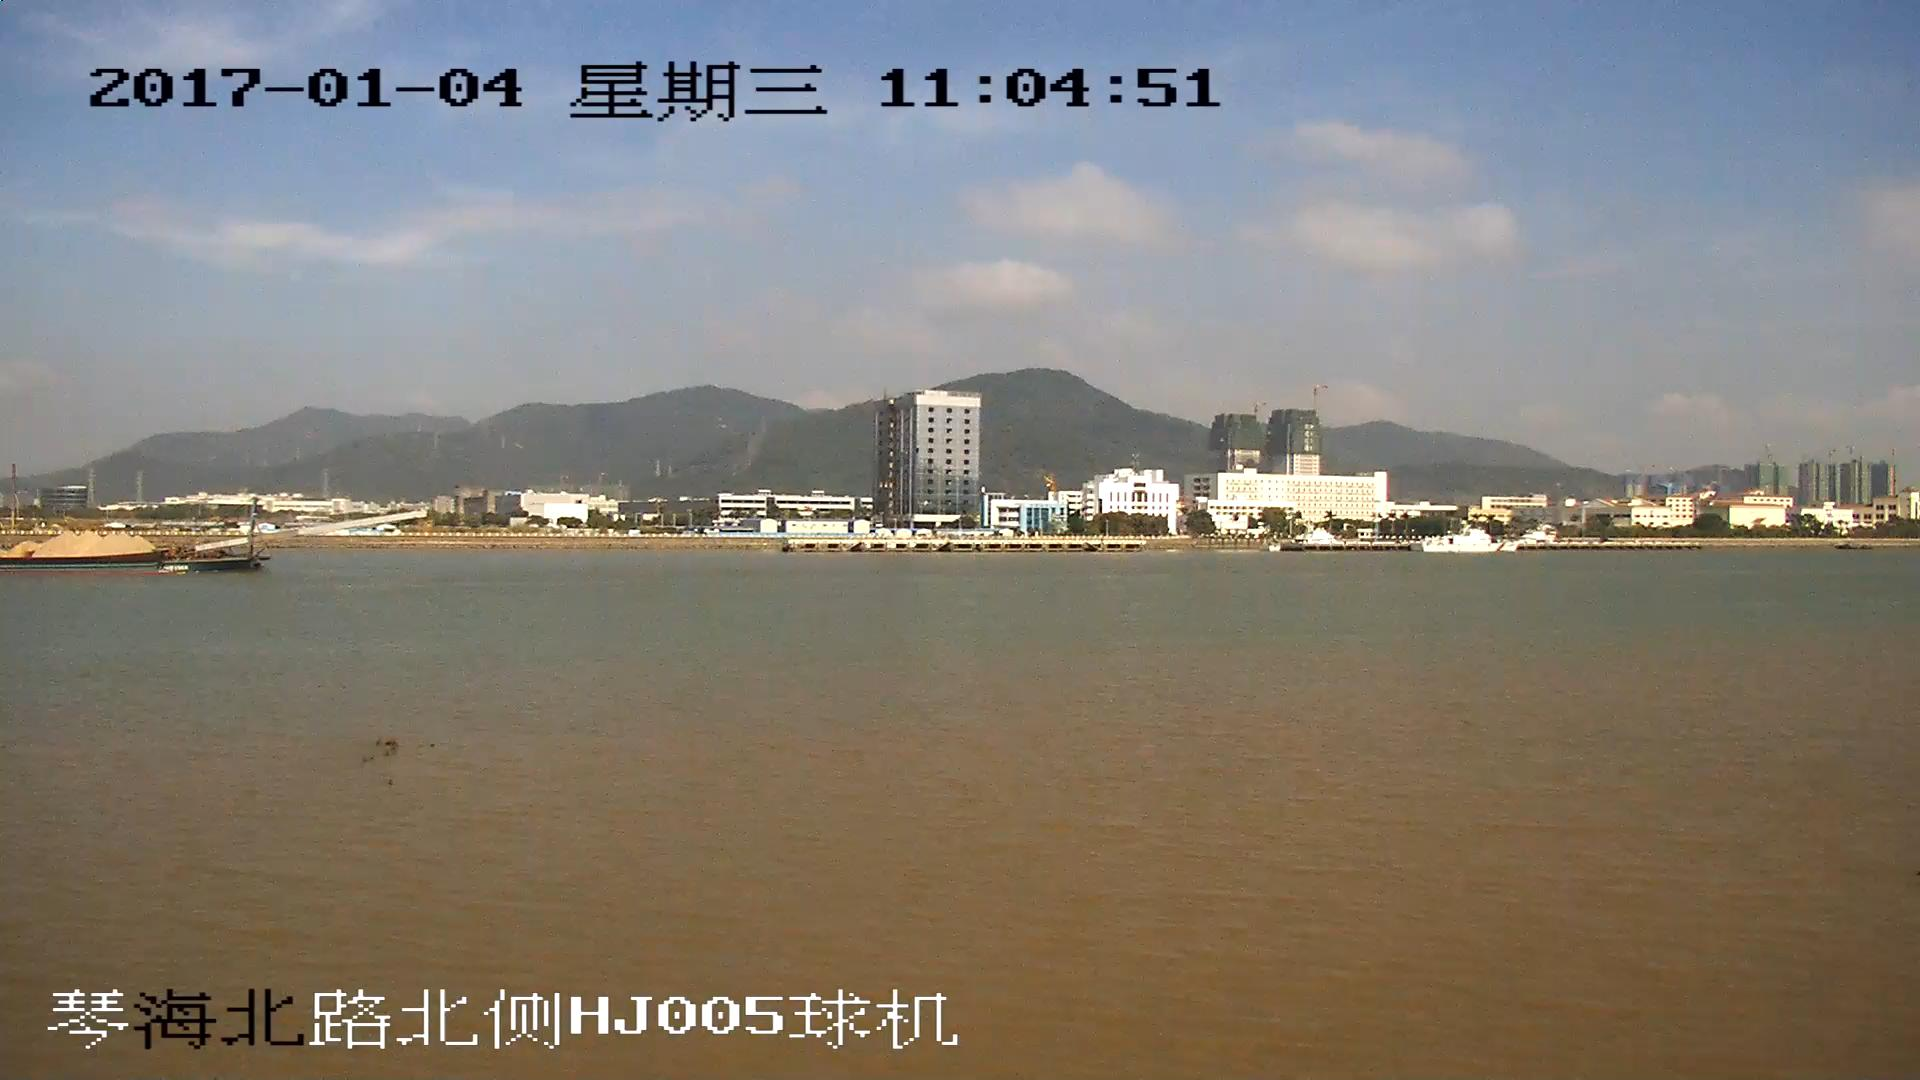ore carrier: (1, 509, 422, 577)
